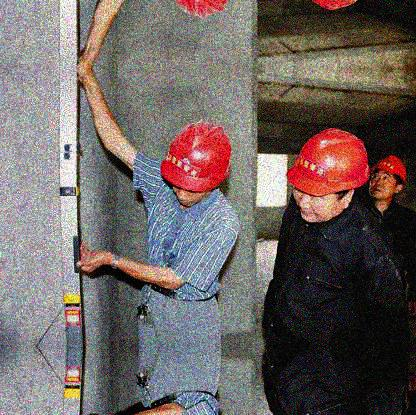helmet: (287, 129, 370, 227), (159, 120, 232, 208), (372, 154, 405, 203)
